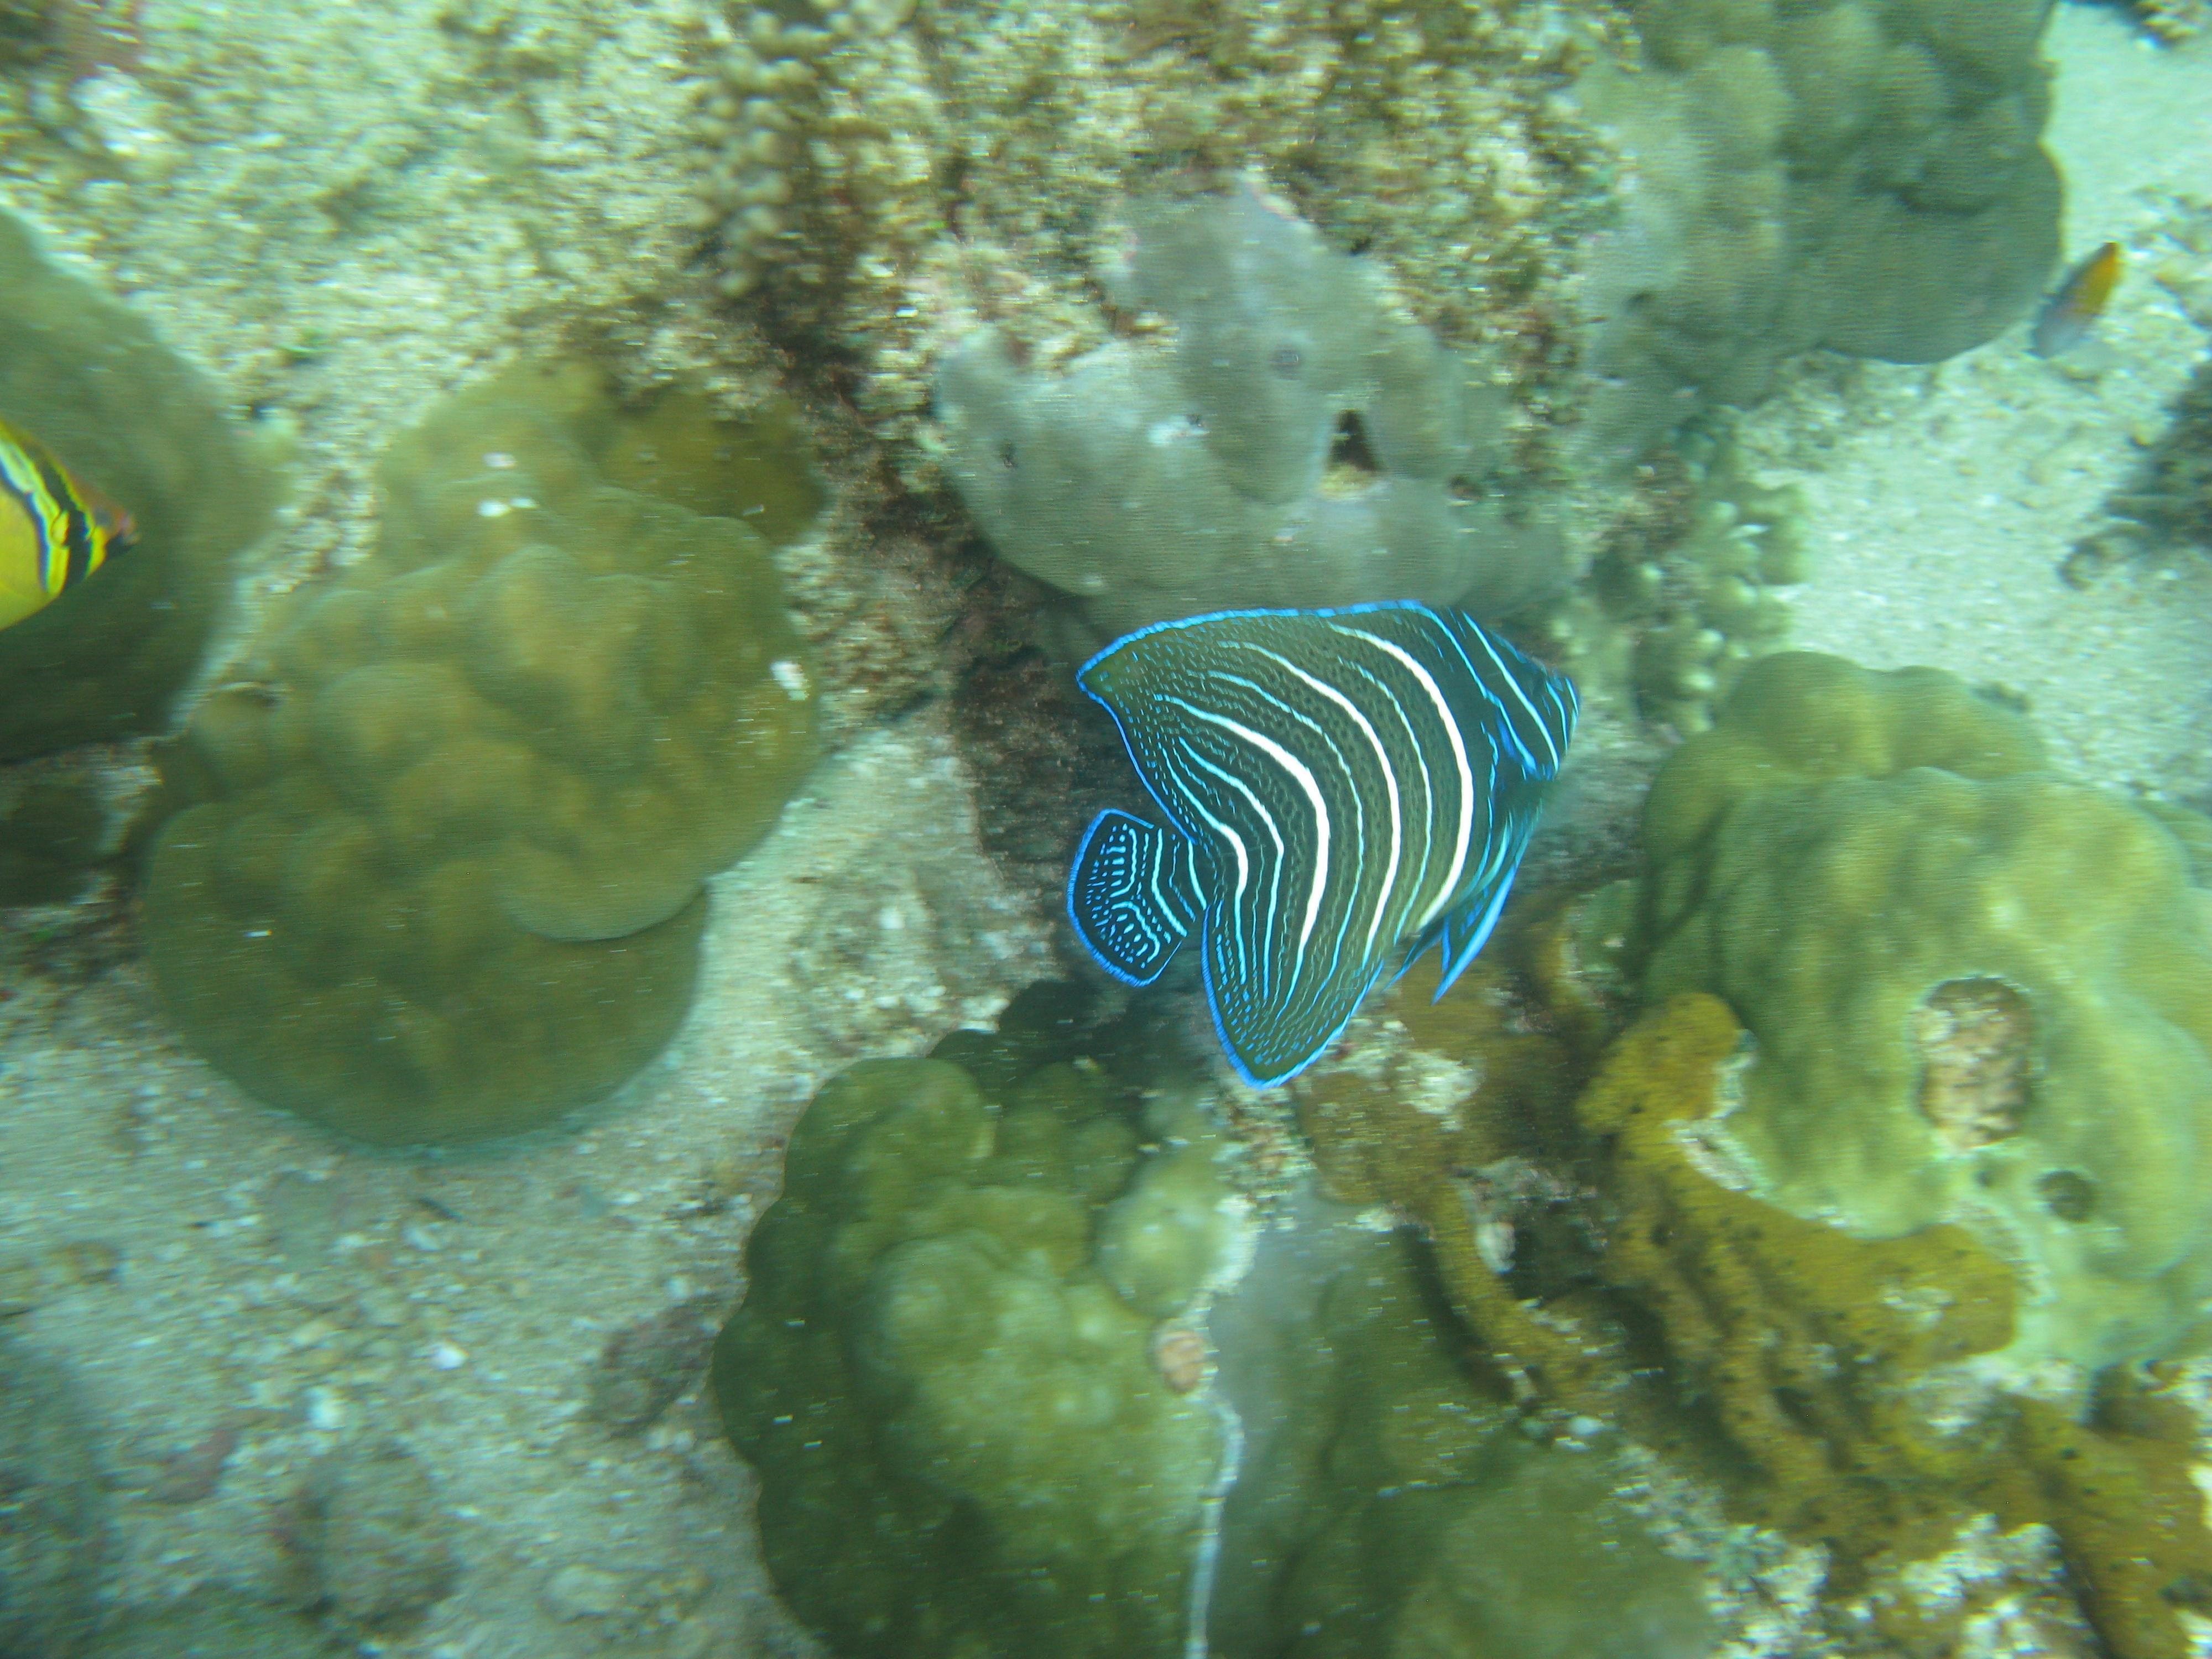Pomacanthus semicirculatus: (1038, 573, 1602, 1112)
